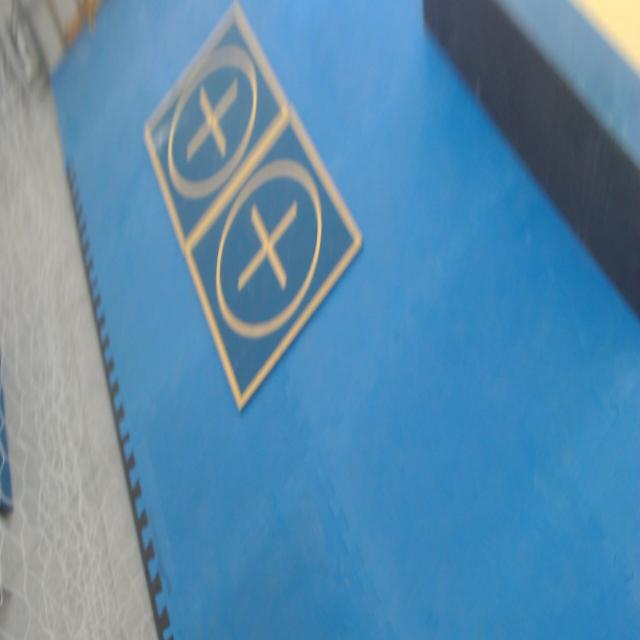base_inicio: (566, 0, 640, 78)
base_pouso: (183, 102, 365, 411), (143, 1, 292, 254)
